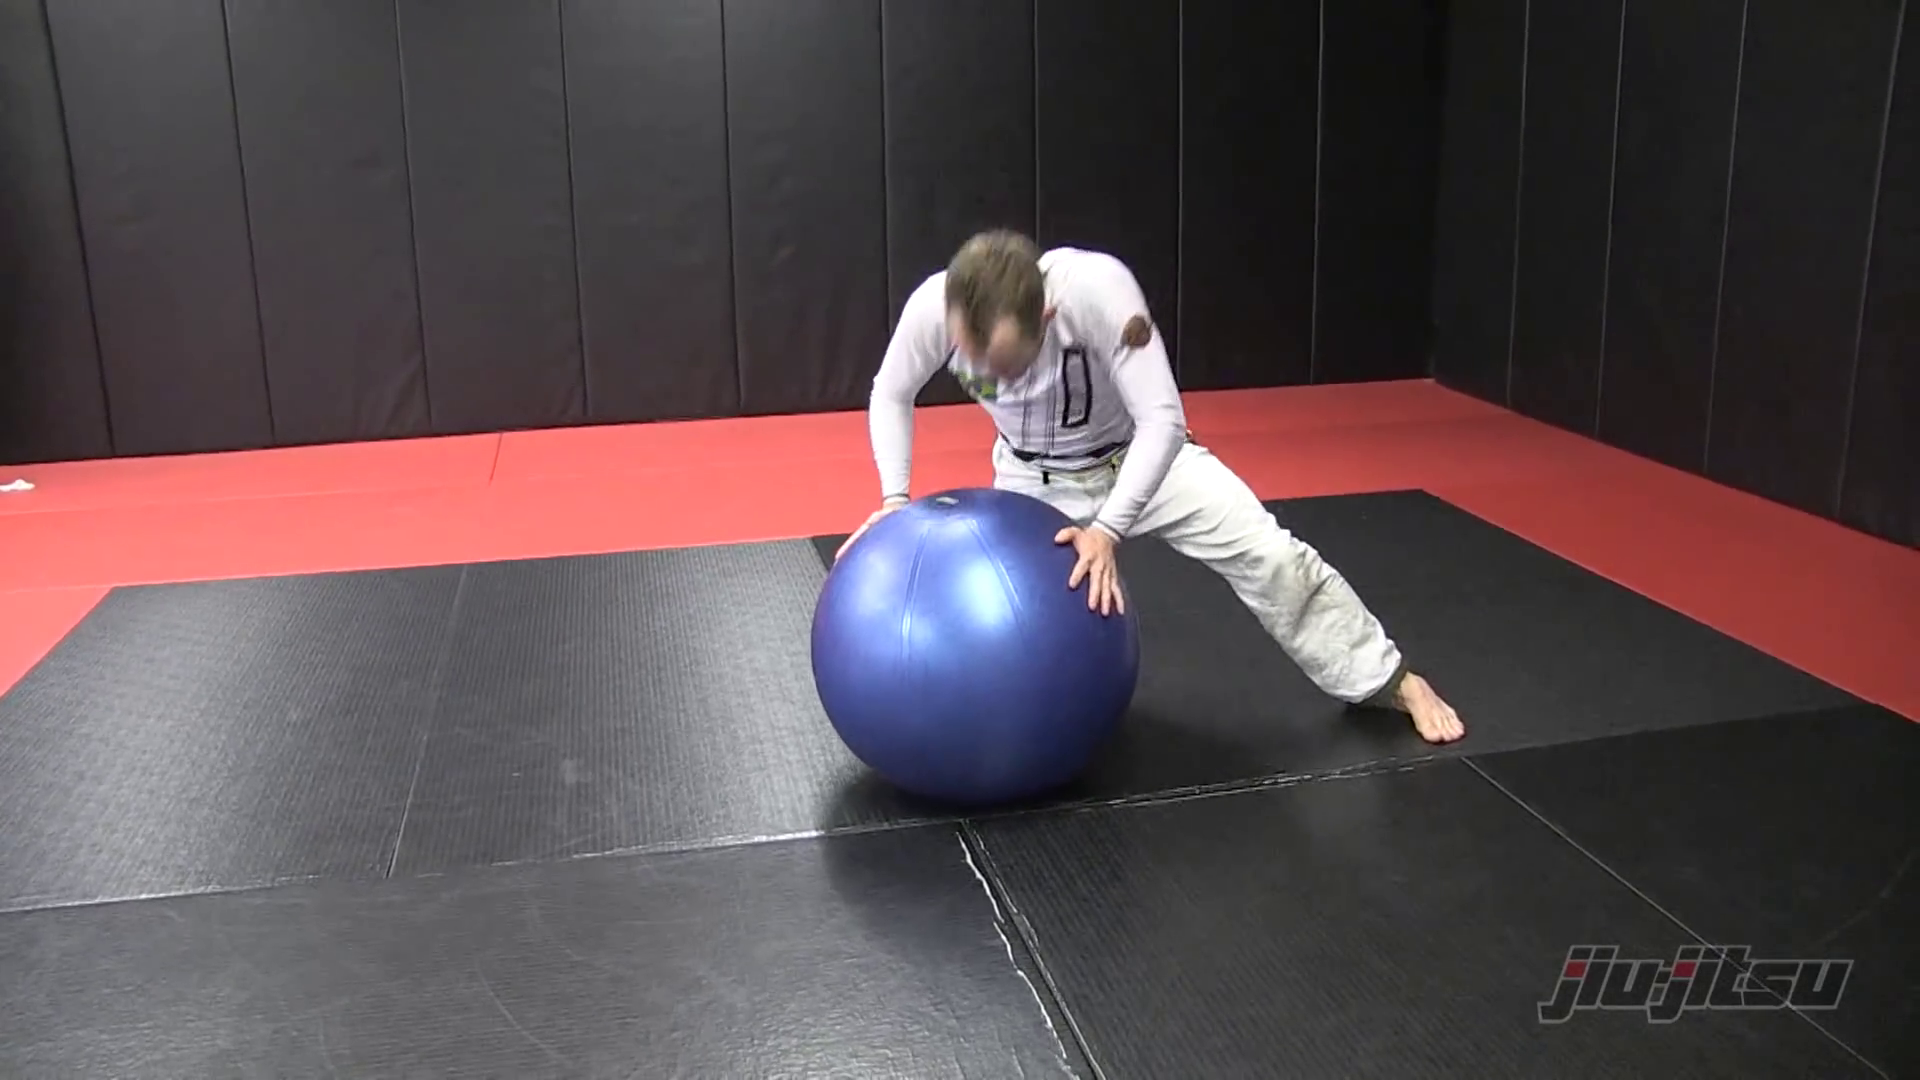yogaball: (800, 476, 1178, 819)
